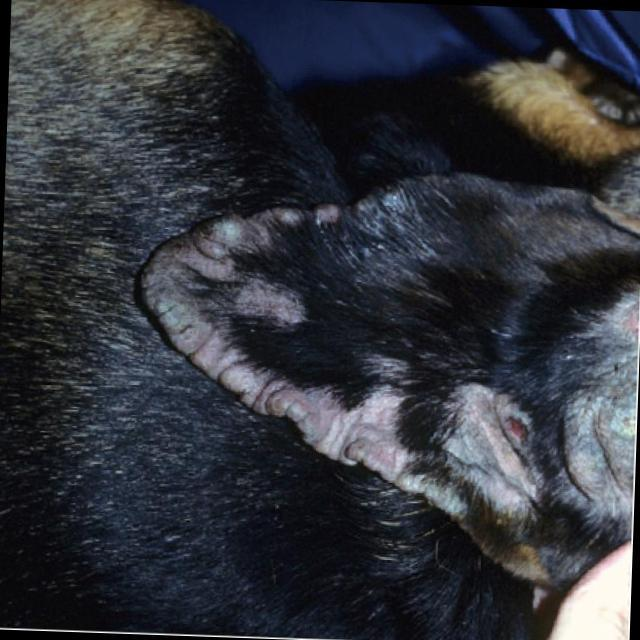mange: (126, 167, 638, 597)
